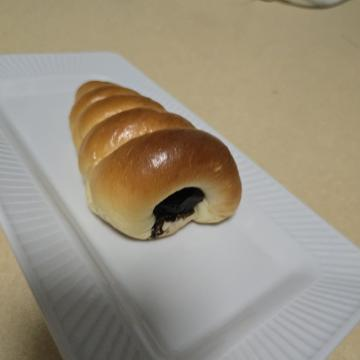cream horn: (53, 110, 274, 300)
